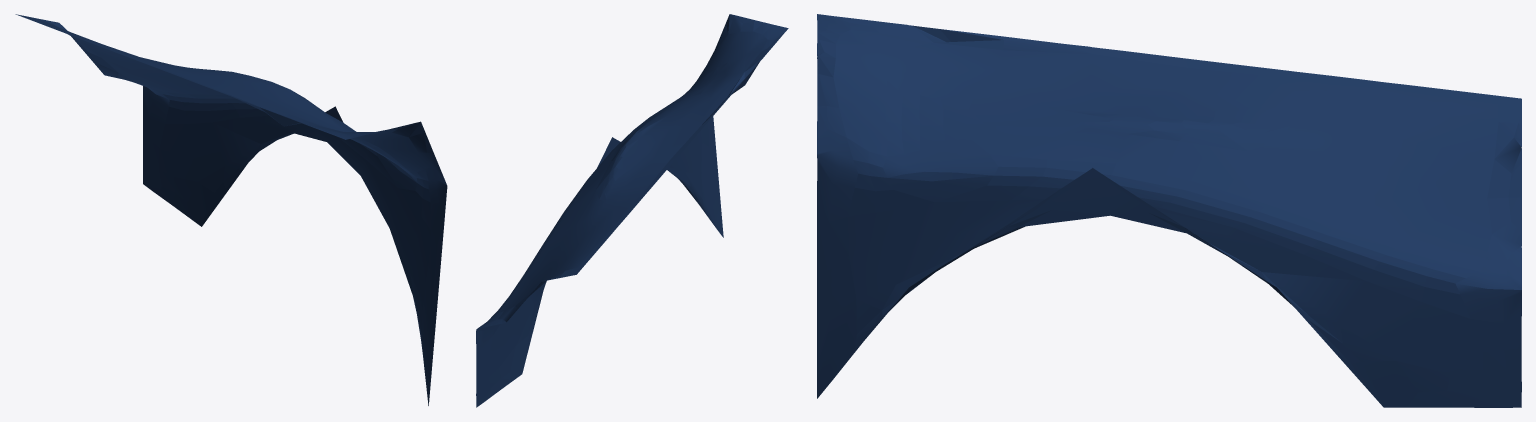
The model's file is GEO_Fender_Front_Left.glb.
The picture shows the model from 3 angles, left to right: view 1: azimuth 30°, elevation 25°; view 2: azimuth 150°, elevation 25°; view 3: azimuth 270°, elevation 25°; orthographic projection. The views are drawn at different scales.
Visible parts, largest first — view 1: GEO_Fender_Front_Left; view 2: GEO_Fender_Front_Left; view 3: GEO_Fender_Front_Left.
Boxes of the visible parts, x1,y1,x2,y2 form: GEO_Fender_Front_Left: [15, 14, 447, 405]; GEO_Fender_Front_Left: [476, 14, 788, 407]; GEO_Fender_Front_Left: [817, 14, 1521, 407].
Size of the model in its own units: 0.3649 by 0.7298 by 1.38.
